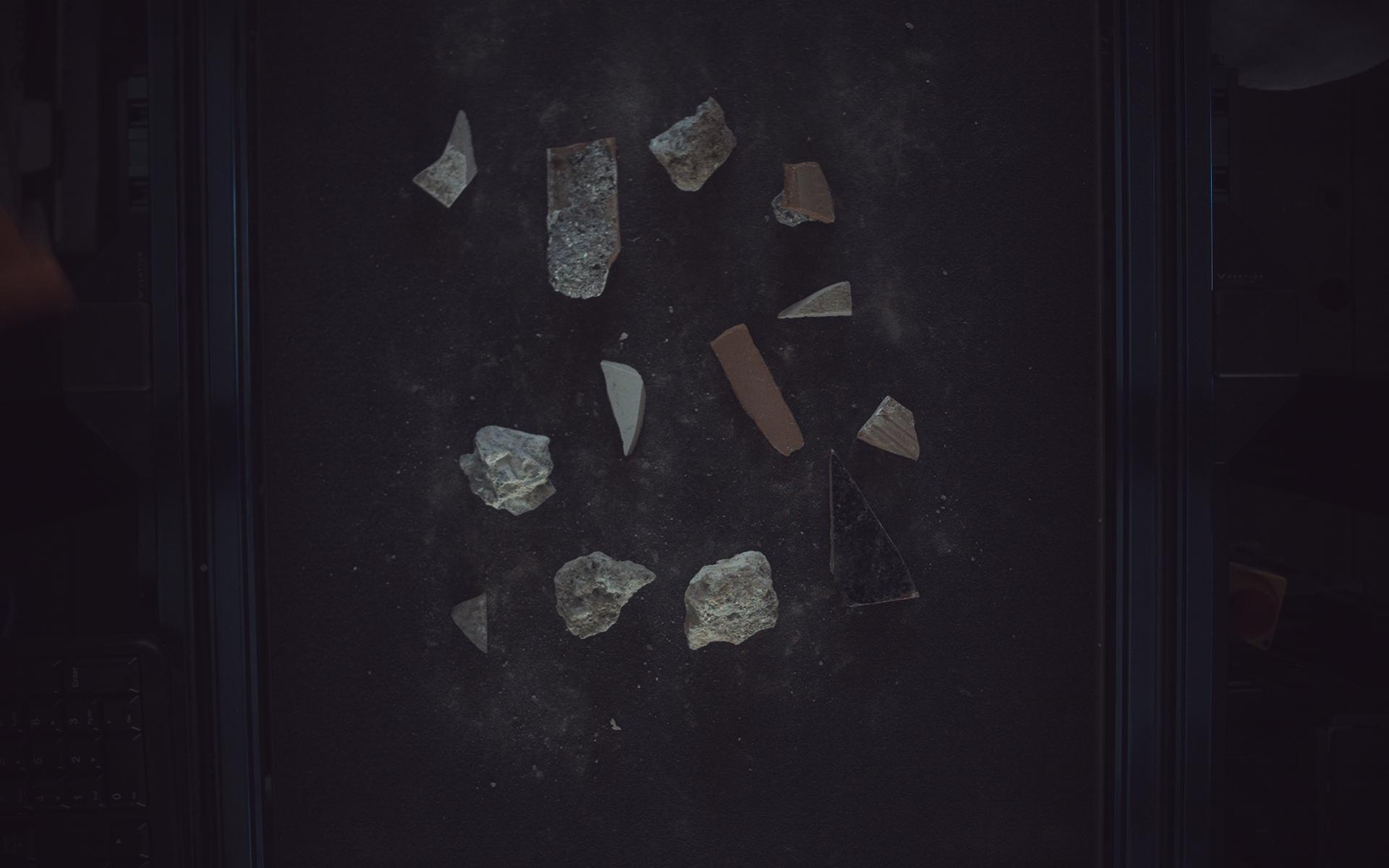brick: (712, 323, 805, 456), (548, 137, 621, 298), (773, 161, 836, 226), (859, 396, 922, 461)
concrete: (685, 552, 780, 650), (555, 552, 655, 639), (459, 427, 556, 516), (650, 96, 738, 191)
tile: (831, 450, 921, 607), (413, 109, 477, 207), (601, 360, 647, 456), (780, 281, 853, 319), (451, 594, 488, 654)
